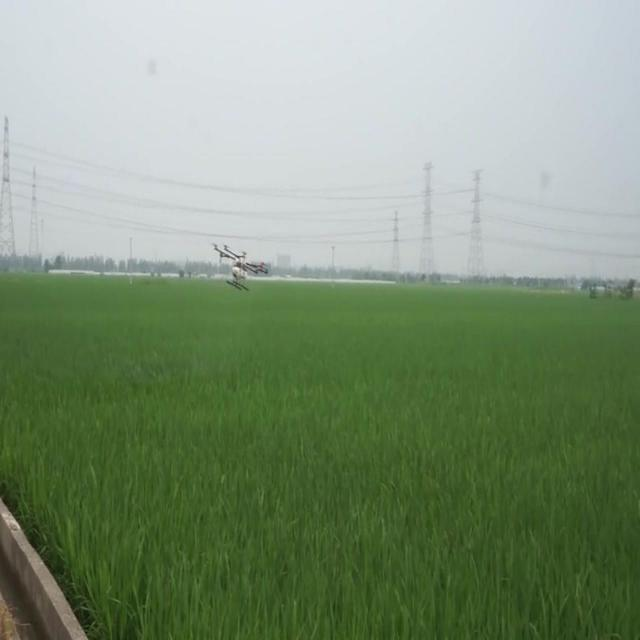UAV: (212, 242, 268, 290)
